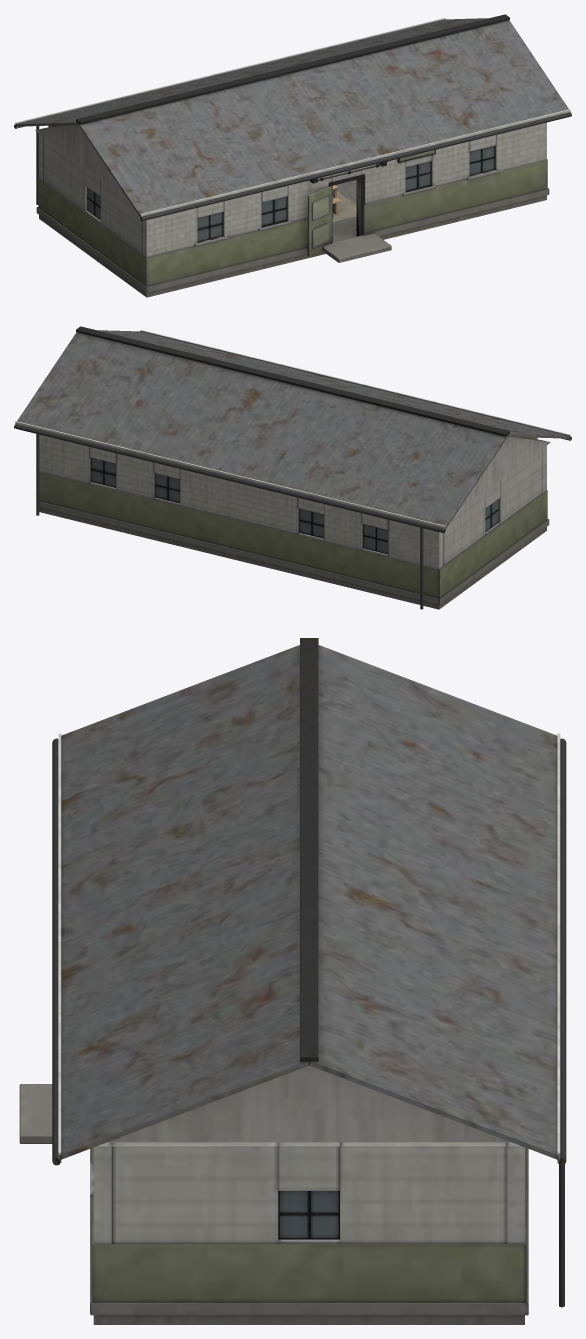
Rendered from bldA.glb.
The picture shows the model from 3 angles, top to bottom: view 1: azimuth 30°, elevation 25°; view 2: azimuth 150°, elevation 25°; view 3: azimuth 270°, elevation 25°; orthographic projection. The views are drawn at different scales.
Visible parts, largest first — view 1: BldA_Roof, BldA_Shell, BldA_Interior; view 2: BldA_Roof, BldA_Shell; view 3: BldA_Roof, BldA_Shell.
Part boxes in pixels (box(x1,y1,x2,y2)): BldA_Roof: box(14, 14, 571, 221); BldA_Shell: box(36, 122, 549, 297); BldA_Interior: box(332, 185, 356, 222); BldA_Roof: box(14, 326, 571, 533); BldA_Shell: box(36, 433, 549, 609); BldA_Roof: box(52, 638, 566, 1165); BldA_Shell: box(19, 1084, 564, 1324).
Bounding box in the file's own units: 16.1 × 5.05 × 8.87.
3 materials, 3 textured.
